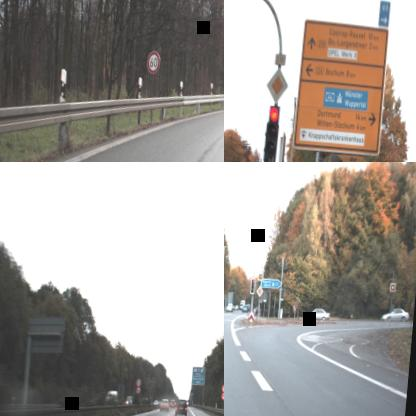no overtaking -trucks-: (136, 386, 141, 395), (220, 392, 224, 401)
priority road: (264, 66, 289, 104), (255, 284, 264, 298)
speed limit 120: (136, 378, 141, 387), (221, 383, 224, 393)
speed limit 60: (146, 50, 160, 75)
